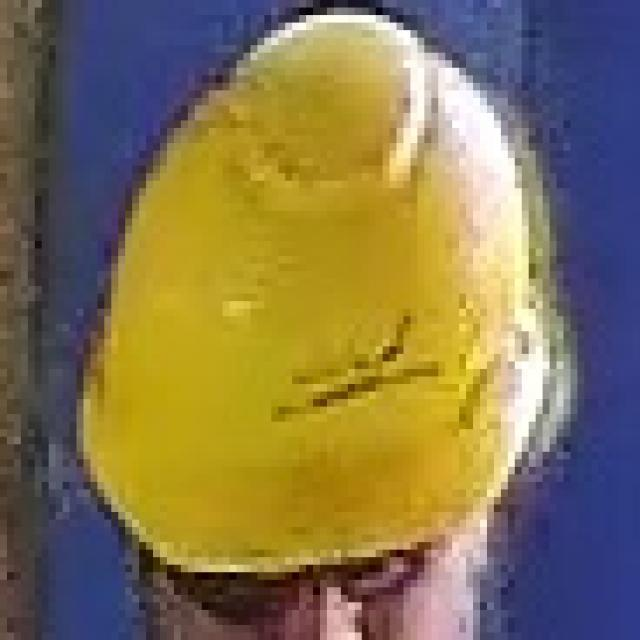yellow helmet: (69, 8, 559, 576)
